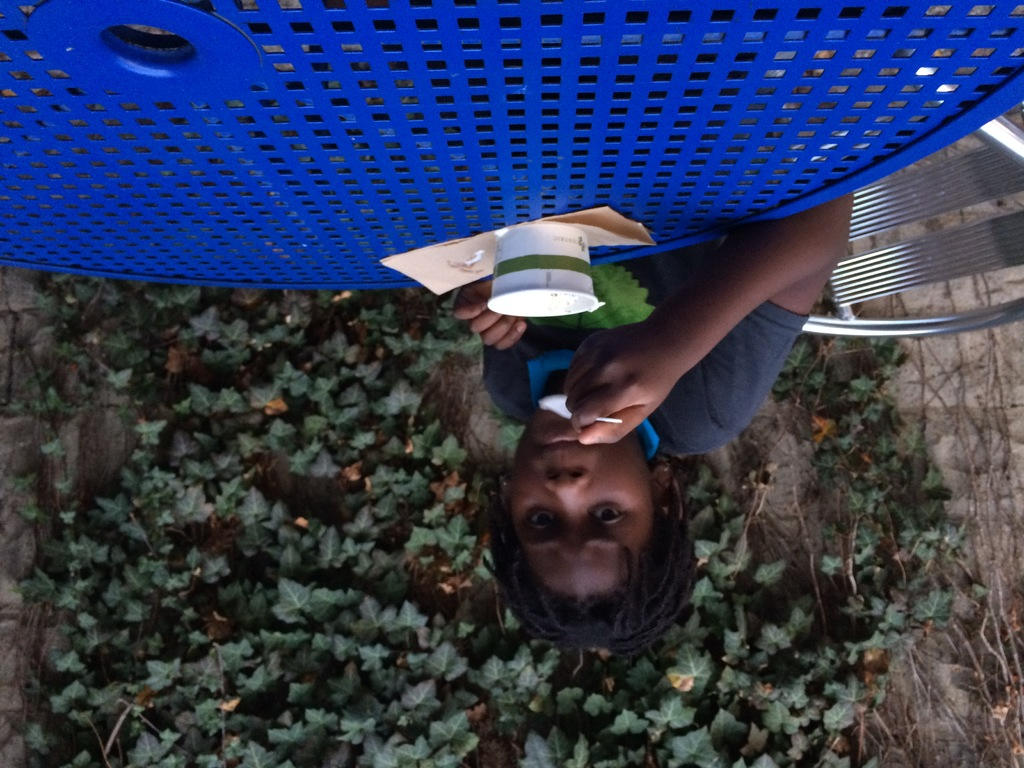Human_hand: (575, 321, 678, 428), (452, 276, 529, 355)
